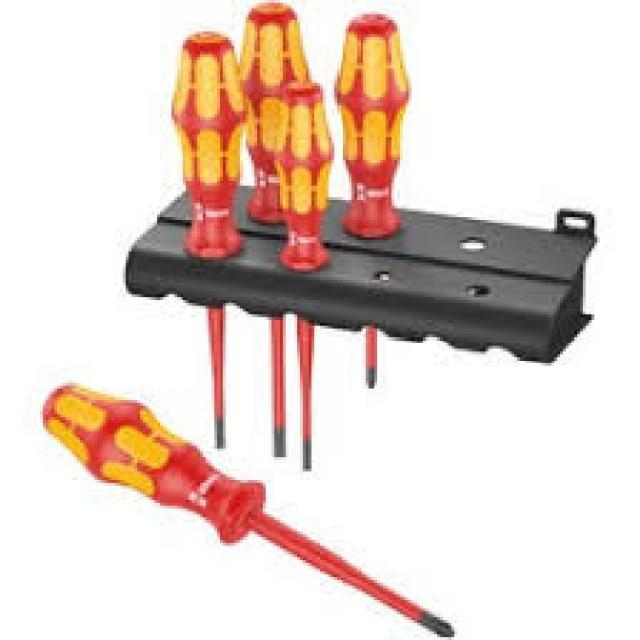screwdriver: (34, 377, 463, 640), (238, 6, 310, 460), (167, 30, 242, 456), (333, 11, 410, 386), (273, 81, 333, 473)
